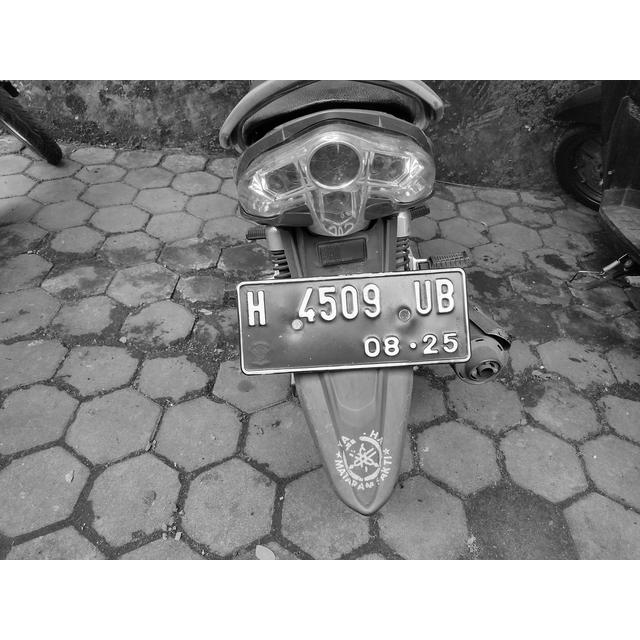license: (244, 277, 461, 358)
